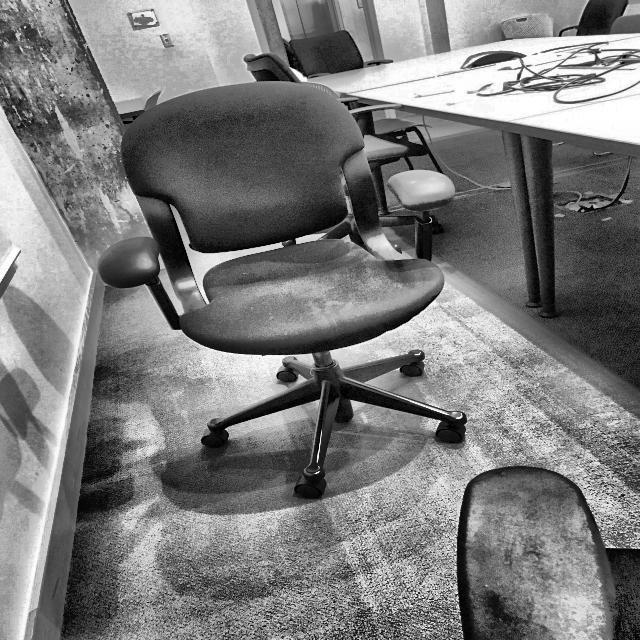chair: (96, 83, 474, 503)
